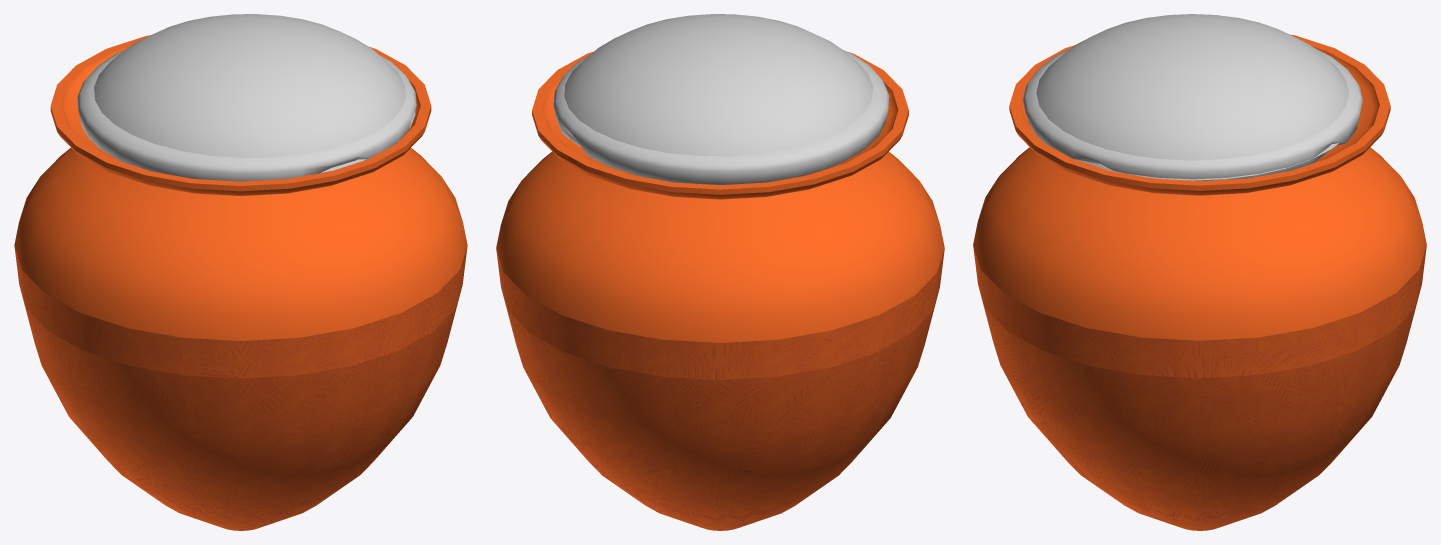
File: pot1.fbx
3 renders of one model, left to right at view 1: azimuth 30°, elevation 25°; view 2: azimuth 150°, elevation 25°; view 3: azimuth 270°, elevation 25°, orthographic.
Parts seen in each view (by area): view 1: pot; view 2: pot; view 3: pot.
Boxes of the visible parts, bbox=[...] form: pot: bbox=[14, 14, 467, 530]; pot: bbox=[496, 14, 944, 530]; pot: bbox=[973, 14, 1426, 530].
Bounding box in the file's own units: 0.9333 × 1.09 × 0.9333.
